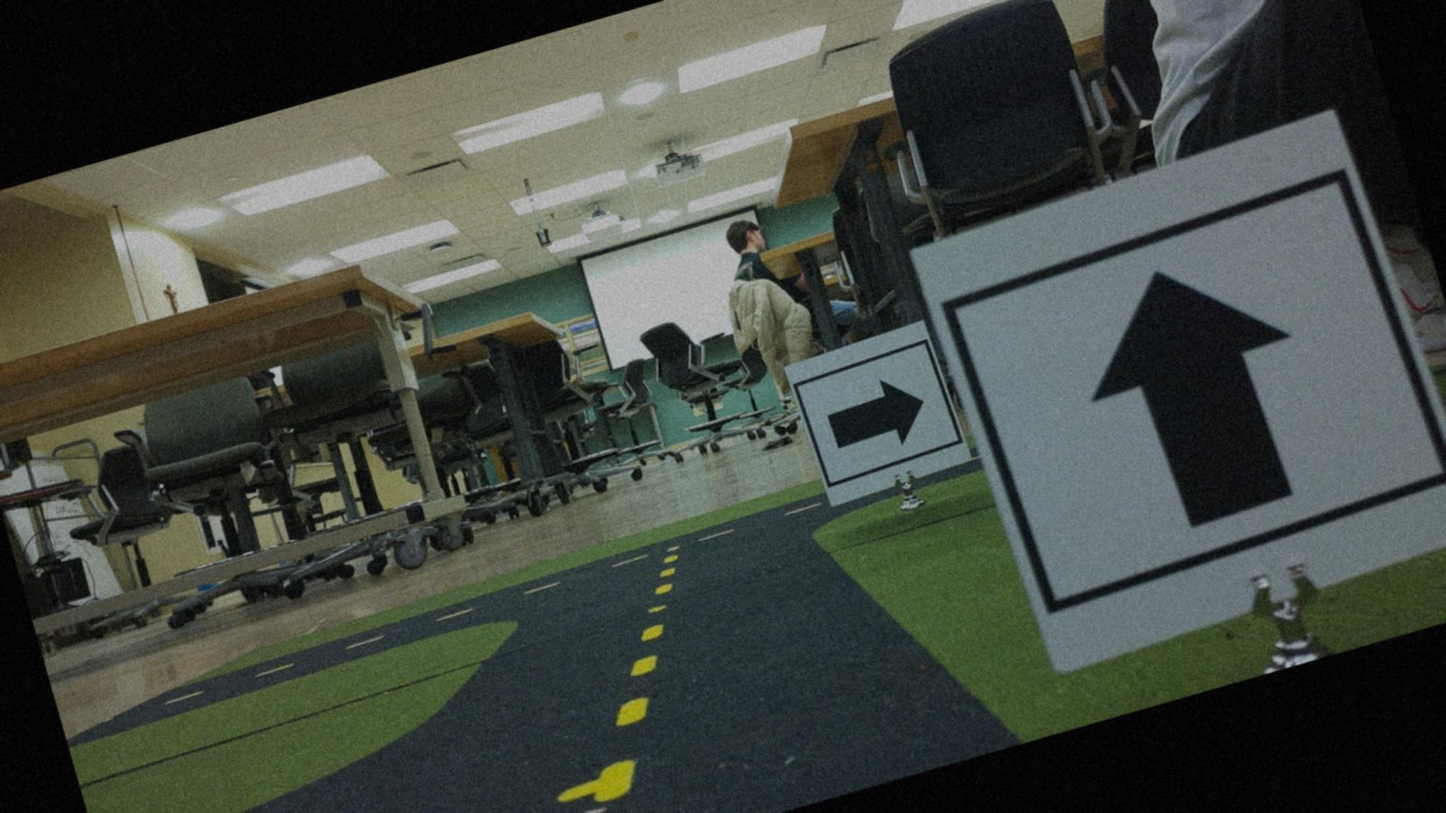gostraight: (938, 112, 1445, 655)
yellowline: (539, 544, 737, 799)
